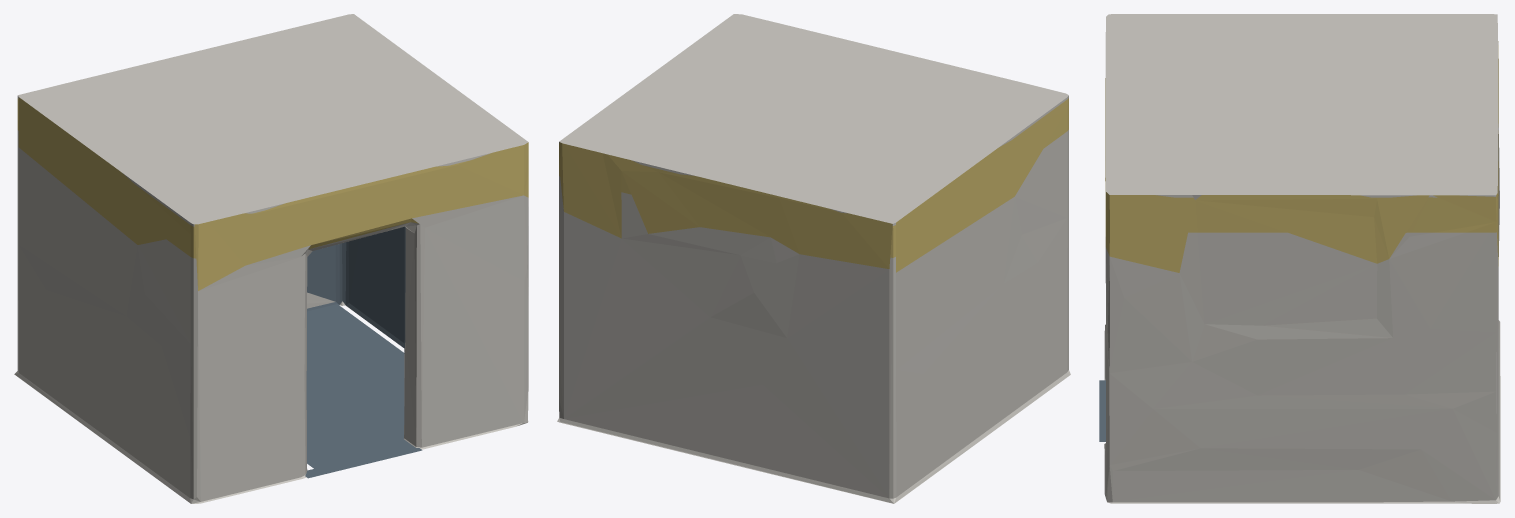
The model's file is etape-1.glb.
3 renders of one model, left to right at view 1: azimuth 30°, elevation 25°; view 2: azimuth 150°, elevation 25°; view 3: azimuth 270°, elevation 25°, orthographic. The views are drawn at different scales.
Visible parts, largest first — view 1: geometry_0; view 2: geometry_0; view 3: geometry_0.
Part boxes in pixels (box(x1,y1,x2,y2)): geometry_0: box(14, 14, 528, 503); geometry_0: box(557, 14, 1070, 503); geometry_0: box(1099, 14, 1500, 503).
Size of the model in its own units: 0.6826 by 0.5375 by 0.6341.
